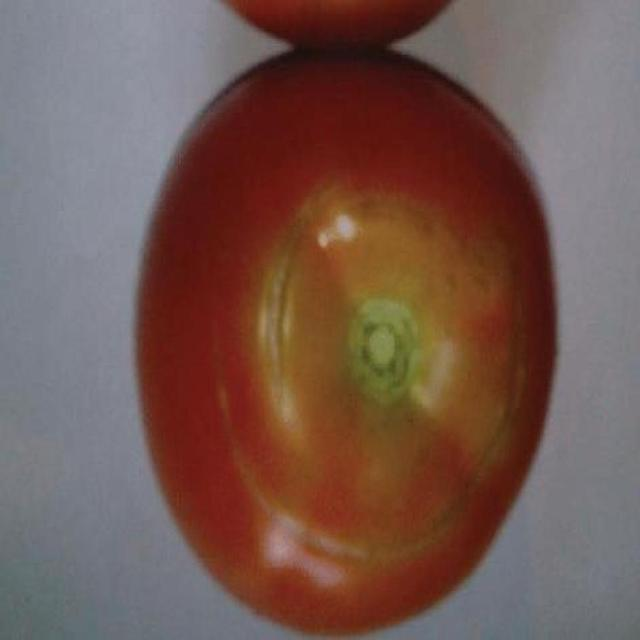Cracking Fruit: (61, 136, 290, 313)
